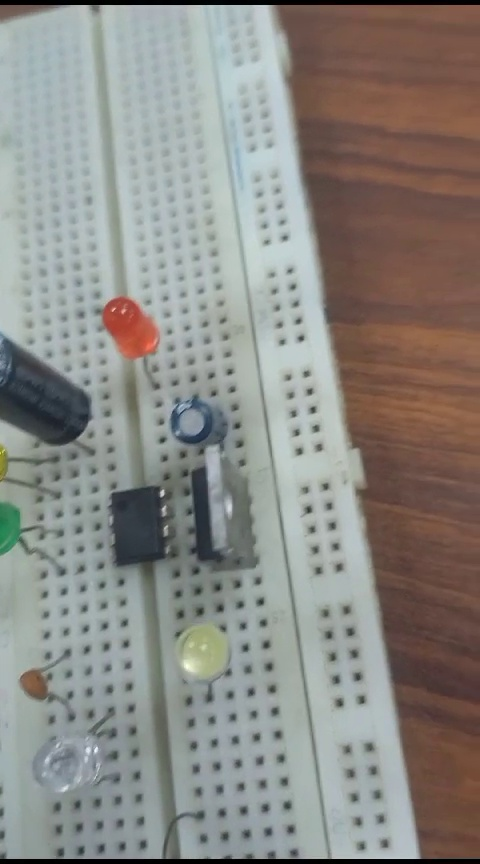IC: (95, 483, 176, 560)
LED: (92, 292, 175, 379), (1, 493, 70, 591), (27, 732, 134, 792), (166, 617, 234, 696)
capacitor: (4, 329, 96, 453), (164, 396, 230, 447)
ceramic capacitor: (12, 659, 94, 712)
voltage regulator: (182, 456, 260, 569)
